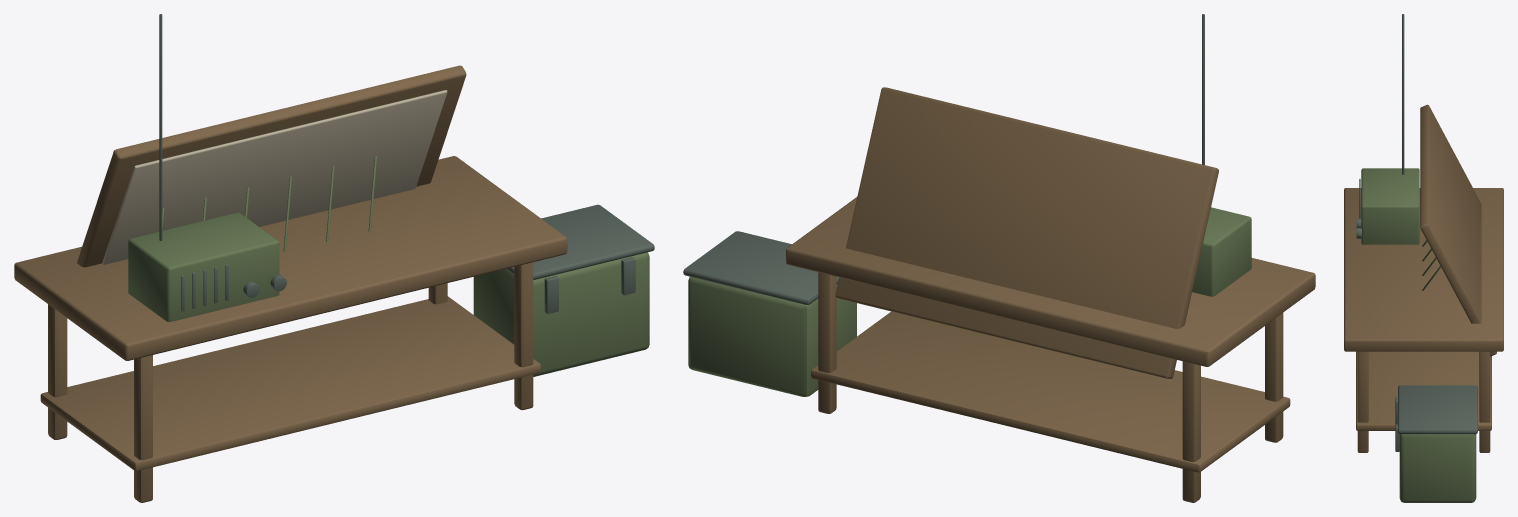
The model's file is CommandTable08.fbx.
3 renders of one model, left to right at view 1: azimuth 30°, elevation 25°; view 2: azimuth 150°, elevation 25°; view 3: azimuth 270°, elevation 25°, orthographic. The views are drawn at different scales.
Visible parts, largest first — view 1: CommandTable08; view 2: CommandTable08; view 3: CommandTable08.
Part boxes in pixels (x1,y1,x2,y2): CommandTable08: (14, 14, 654, 502); CommandTable08: (683, 14, 1315, 502); CommandTable08: (1344, 14, 1503, 502).
Size of the model in its own units: 334 by 115 by 255.
